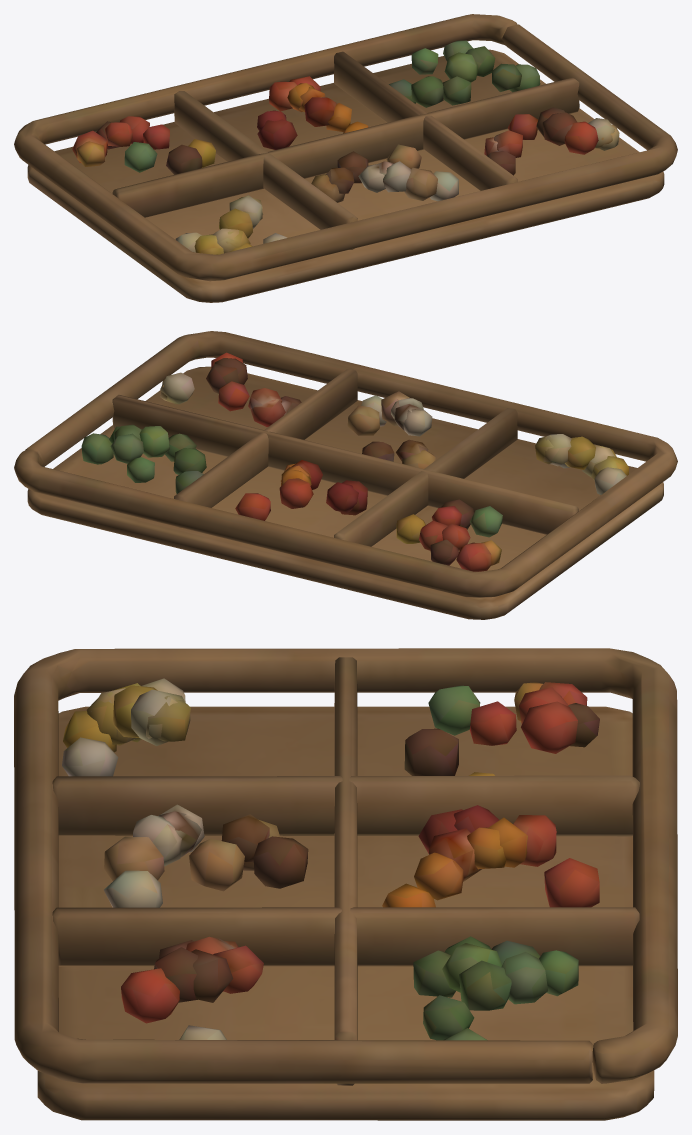
Rendered from pellet_tray.glb.
3 renders of one model, top to bottom at view 1: azimuth 30°, elevation 25°; view 2: azimuth 150°, elevation 25°; view 3: azimuth 270°, elevation 25°, orthographic. The views are drawn at different scales.
Parts seen in each view (by area): view 1: prop_pellet_tray_wood, prop_pellet_tray_felt; view 2: prop_pellet_tray_wood, prop_pellet_tray_felt; view 3: prop_pellet_tray_wood, prop_pellet_tray_felt.
Part boxes in pixels (bbox=[...]): prop_pellet_tray_wood: bbox=[14, 14, 677, 302]; prop_pellet_tray_felt: bbox=[72, 40, 619, 254]; prop_pellet_tray_wood: bbox=[14, 331, 677, 619]; prop_pellet_tray_felt: bbox=[81, 352, 628, 571]; prop_pellet_tray_wood: bbox=[14, 648, 677, 1120]; prop_pellet_tray_felt: bbox=[62, 678, 599, 1040].
Size of the model in its own units: 0.6287 by 0.0793 by 0.4289.
2 materials, 2 textured.
